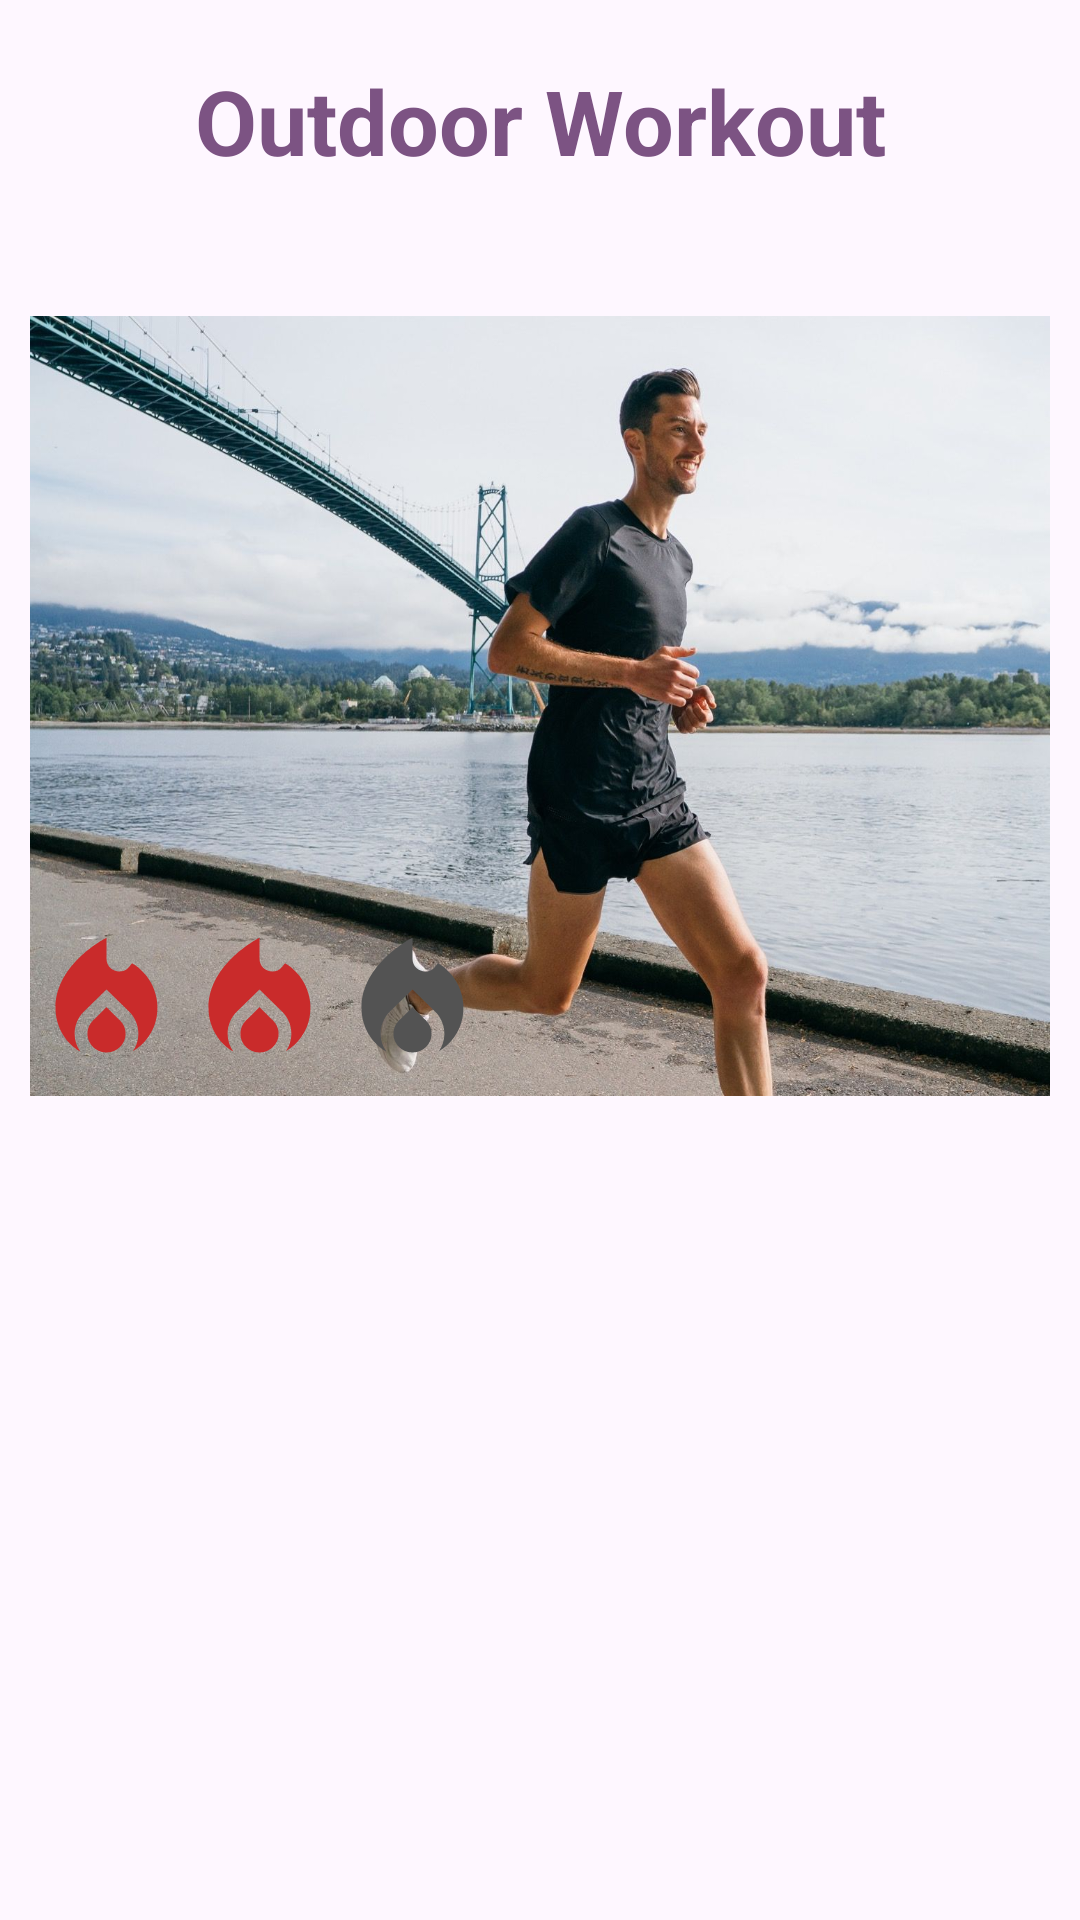

Icons on this 1080*1920 Android screen, each with the point to tap as [x,y]:
fire lit: [106,1001], [259,1001]
fire unlit: [412,1001]
